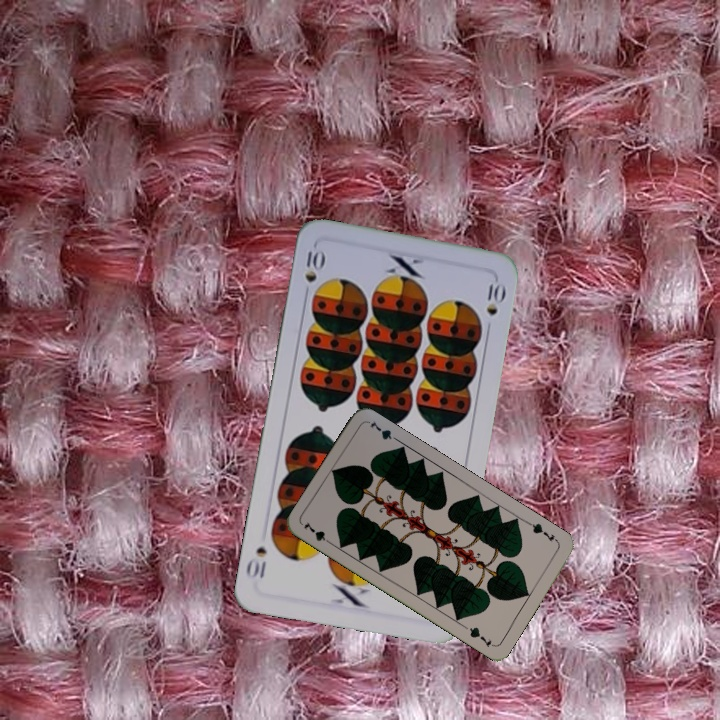G7: (299, 518, 336, 548), (524, 519, 560, 545)
S10: (301, 242, 326, 301)
